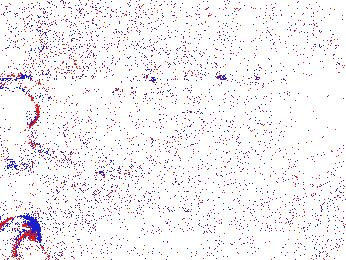flame jellyfish: (1, 85, 41, 176), (184, 195, 236, 246), (1, 215, 52, 260)
